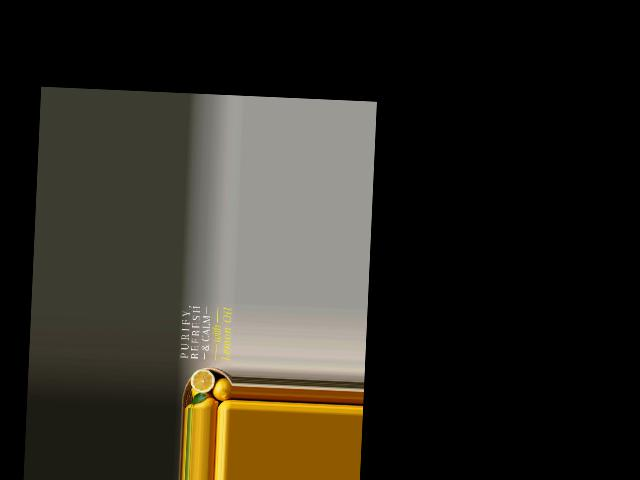lemon: (211, 378, 232, 400)
